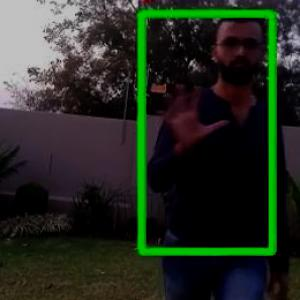follow_hand: (150, 77, 234, 150)
